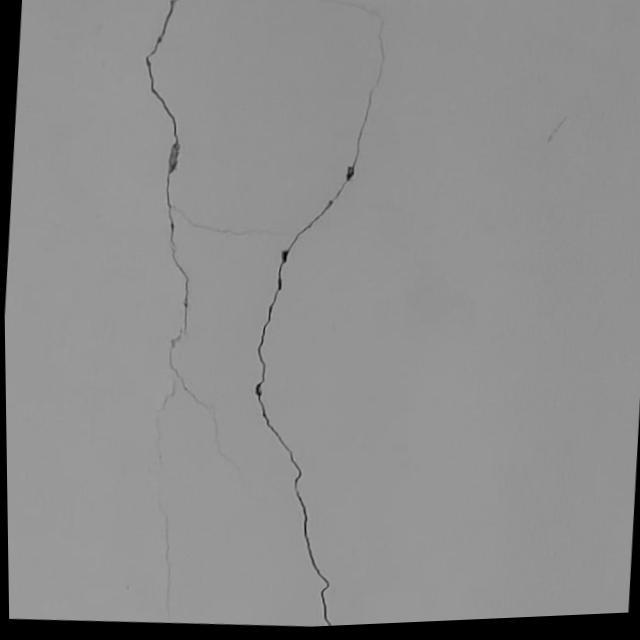Crack: (253, 0, 388, 620), (142, 0, 242, 505)
